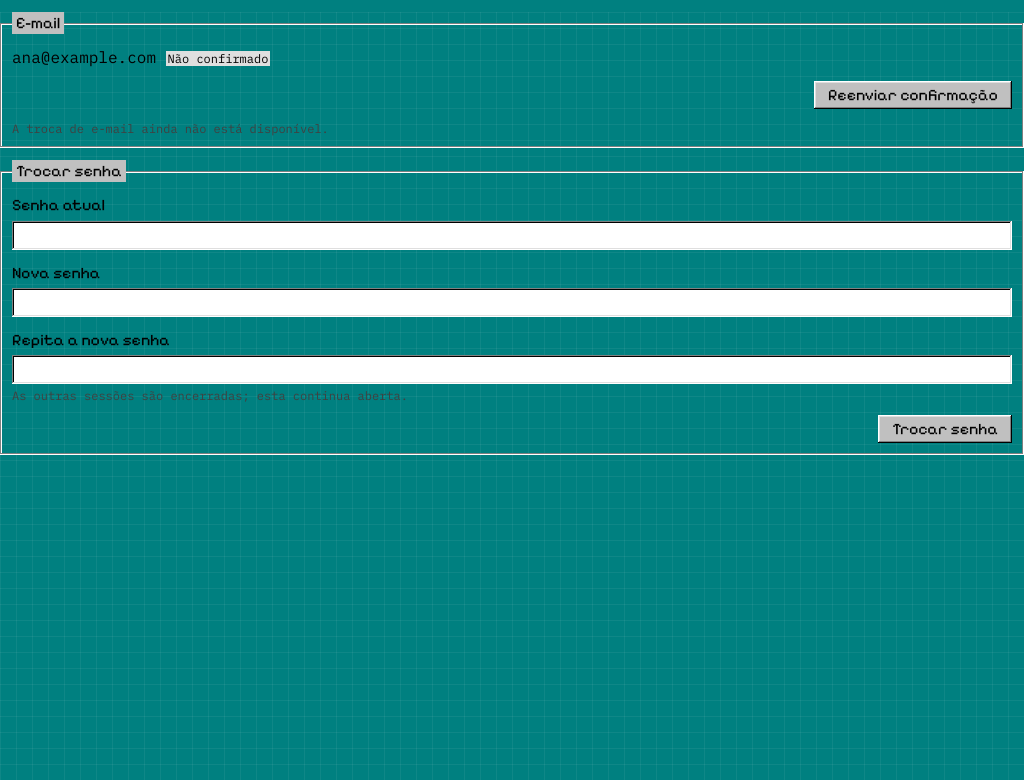
it: Aba Conta › reenvia a confirmação de um e-mail não confirmado
expect the text "Não confirmado" is shown: met, box [166,51,270,66]
Click the button "Reenviar confirmação".
click(913, 95)  # box [814,81,1012,109]
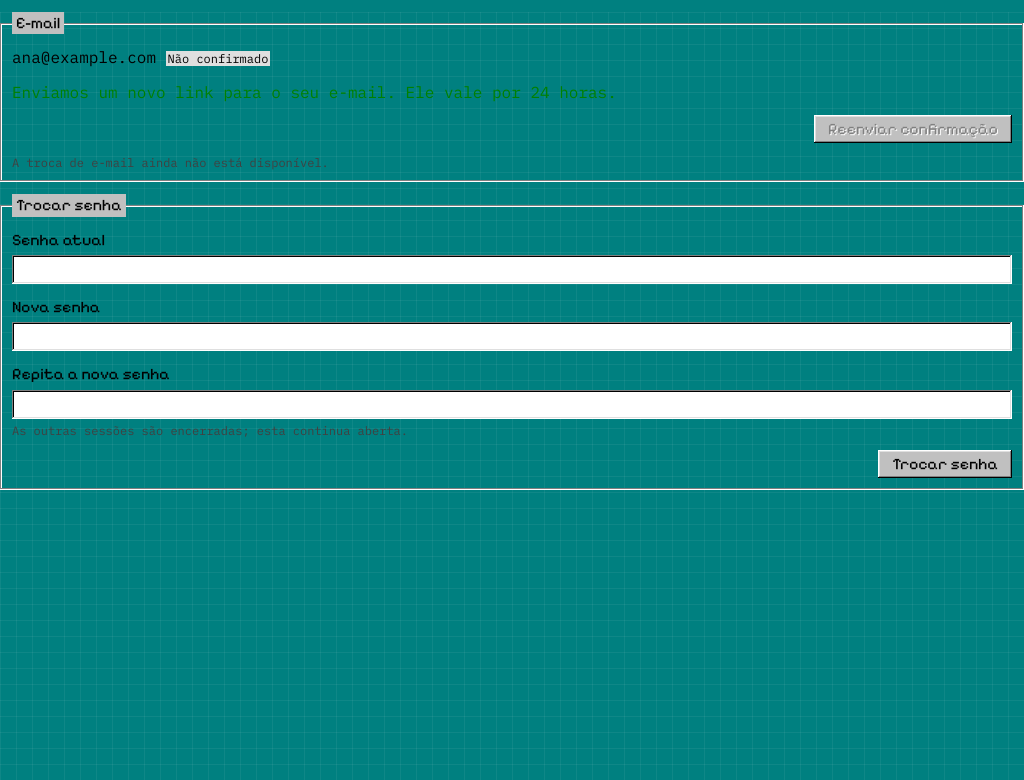
expect the message "Enviamos um novo link para o seu e-mail. Ele vale por 24 horas." is shown: met, box [12,82,617,102]
